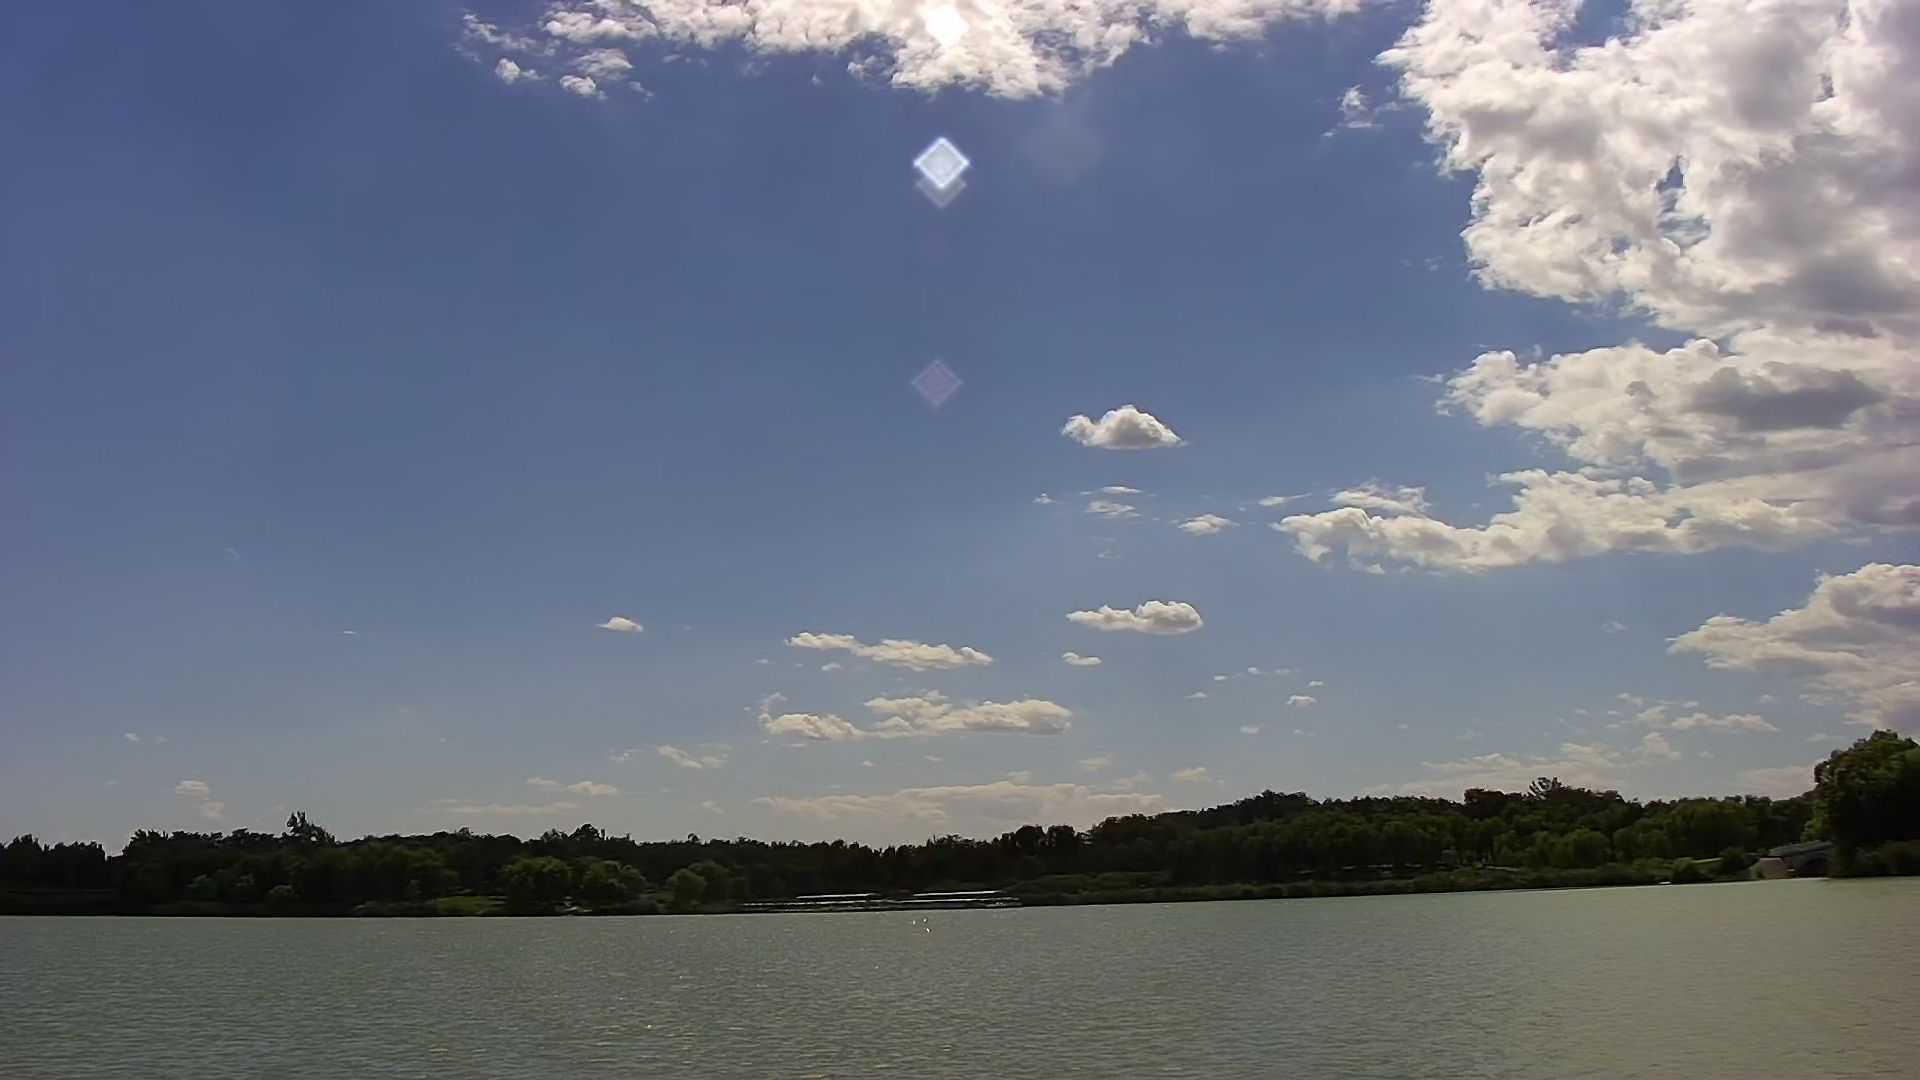harbor: (785, 891, 993, 910)
